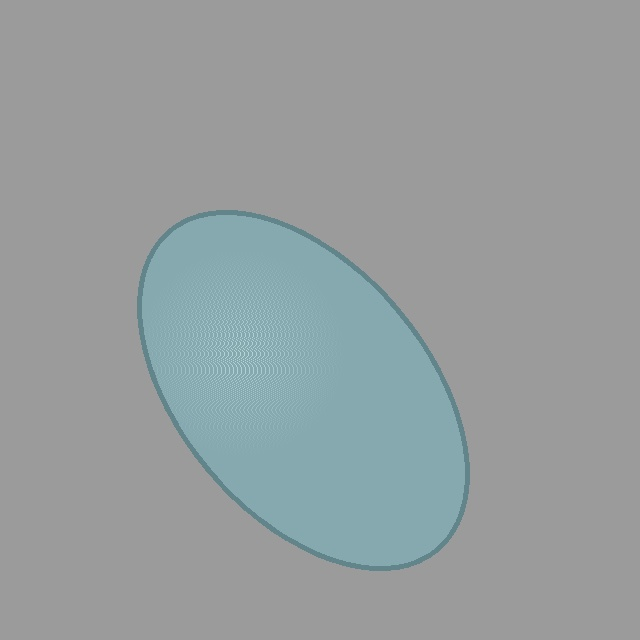lens: (140, 212, 466, 568)
